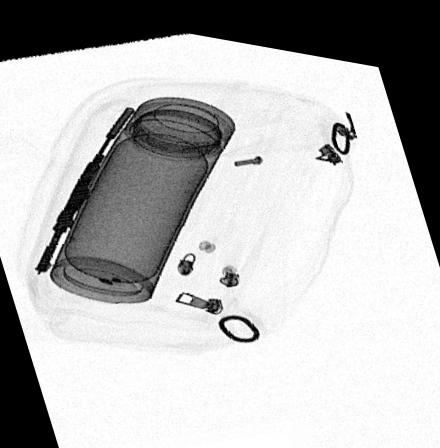Gun: (32, 100, 137, 273)
